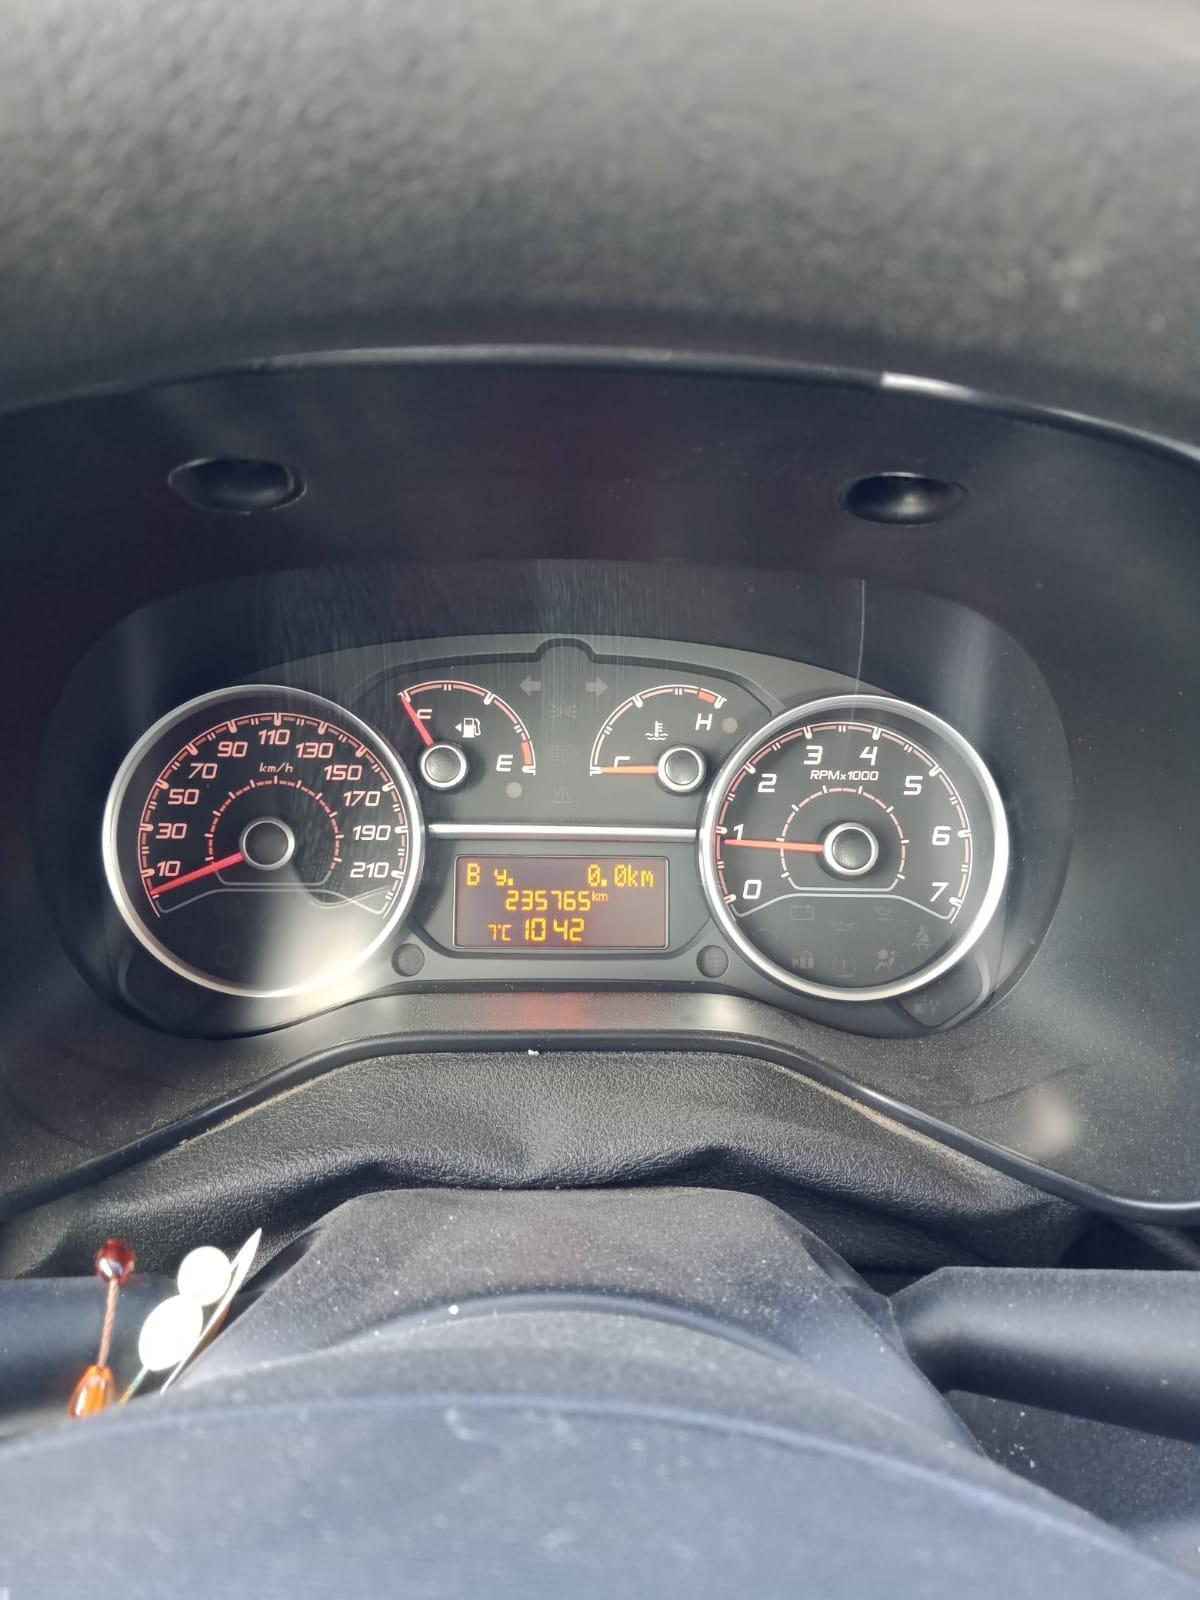,: (507, 877, 514, 886), (600, 879, 608, 888)
0: (529, 917, 546, 941), (586, 863, 600, 887), (613, 863, 626, 887)
1: (523, 917, 529, 941)
2: (568, 917, 584, 941), (505, 889, 519, 911)
3: (521, 889, 533, 911)
4: (552, 918, 568, 941)
5: (534, 889, 547, 911), (577, 889, 590, 911)
6: (563, 889, 576, 911)
7: (550, 889, 562, 911), (487, 923, 497, 941)
X: (466, 862, 482, 887), (626, 863, 639, 888), (640, 869, 654, 888), (494, 867, 507, 886), (500, 923, 513, 941), (597, 892, 609, 902), (591, 889, 597, 902)
odometer: (451, 850, 671, 952)
